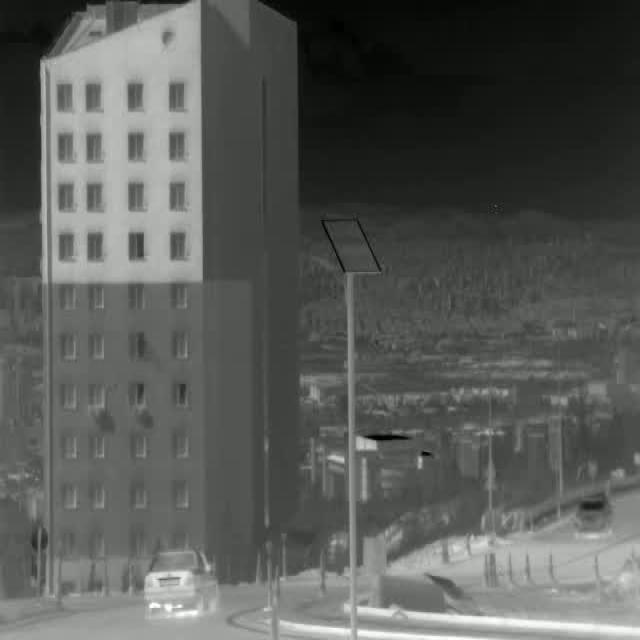Car: (142, 549, 220, 622), (572, 493, 616, 539)
